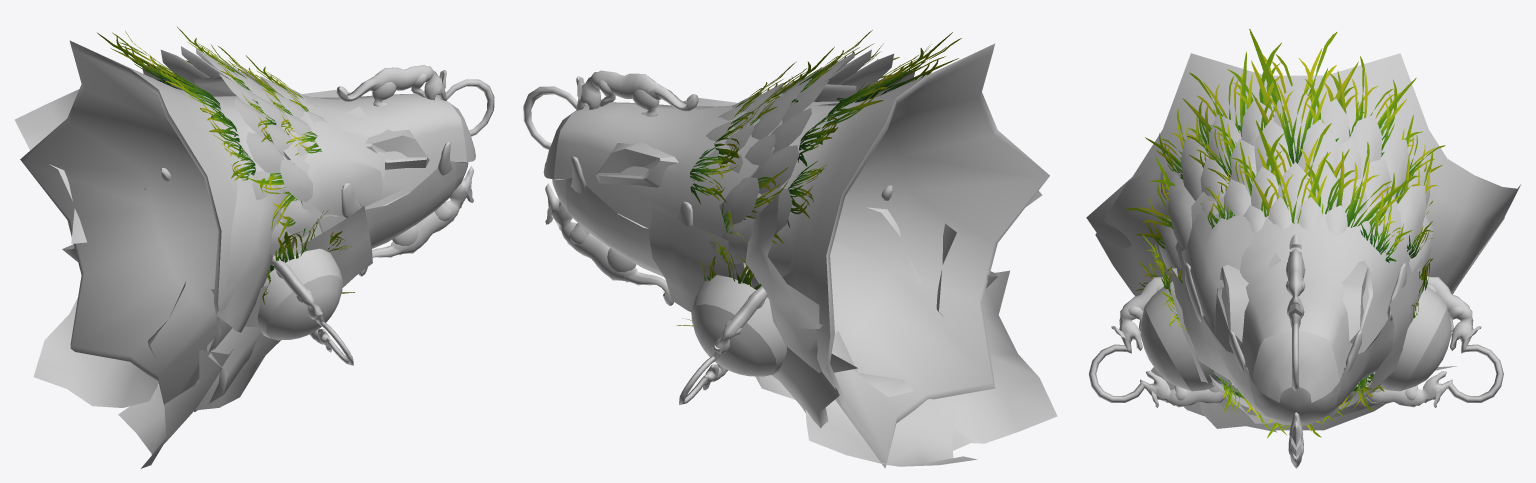
The model's file is SM_DragonHead.FBX.
3 views of the same model, side by side, from view 1: azimuth 30°, elevation 25°; view 2: azimuth 150°, elevation 25°; view 3: azimuth 270°, elevation 25° (orthographic). The views are drawn at different scales.
Parts seen in each view (by area): view 1: Plane147; view 2: Plane147; view 3: Plane147.
Part boxes in pixels (<box>): Plane147: <box>15,27,494,468</box>; Plane147: <box>523,30,1057,468</box>; Plane147: <box>1086,29,1520,468</box>.
Bounding box in the file's own units: 835 × 722 × 684.
